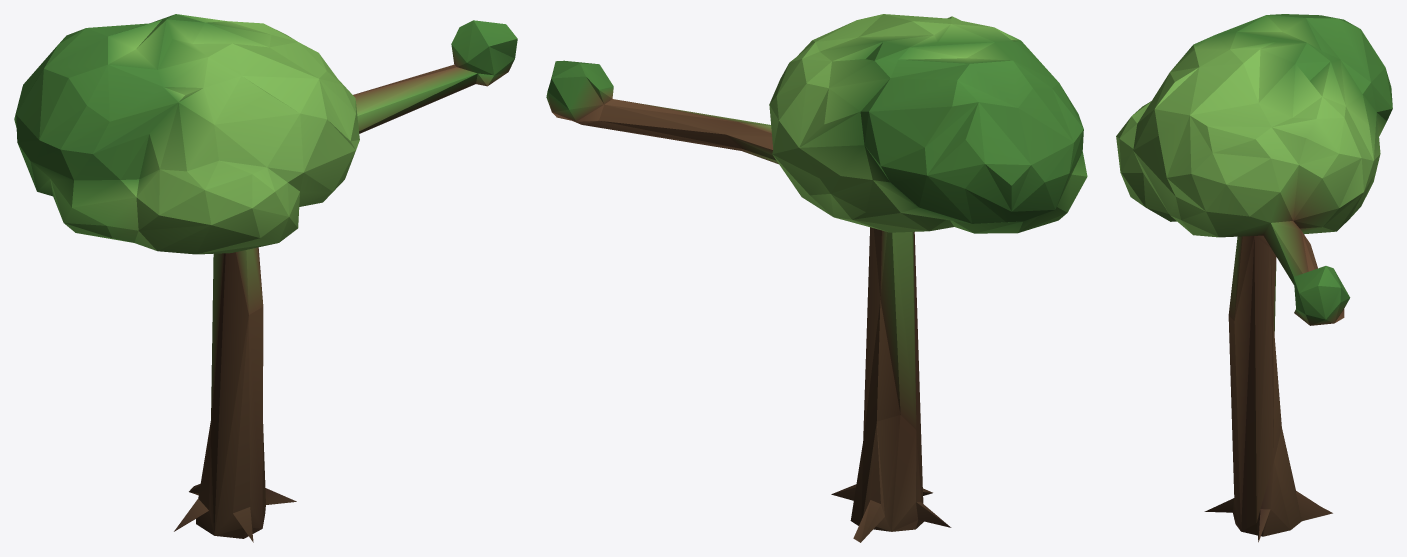
The model's file is broadleaf_broken_regrowth_far.glb.
3 renders of one model, left to right at view 1: azimuth 30°, elevation 25°; view 2: azimuth 150°, elevation 25°; view 3: azimuth 270°, elevation 25°, orthographic. The views are drawn at different scales.
Visible parts, largest first — view 1: broadleaf_broken_regrowth_LOD3; view 2: broadleaf_broken_regrowth_LOD3; view 3: broadleaf_broken_regrowth_LOD3.
Boxes of the visible parts, x1,y1,x2,y2 form: broadleaf_broken_regrowth_LOD3: (14, 14, 517, 542); broadleaf_broken_regrowth_LOD3: (546, 14, 1087, 542); broadleaf_broken_regrowth_LOD3: (1116, 14, 1392, 542).
Size of the model in its own units: 4.57 by 4.39 by 2.37.
